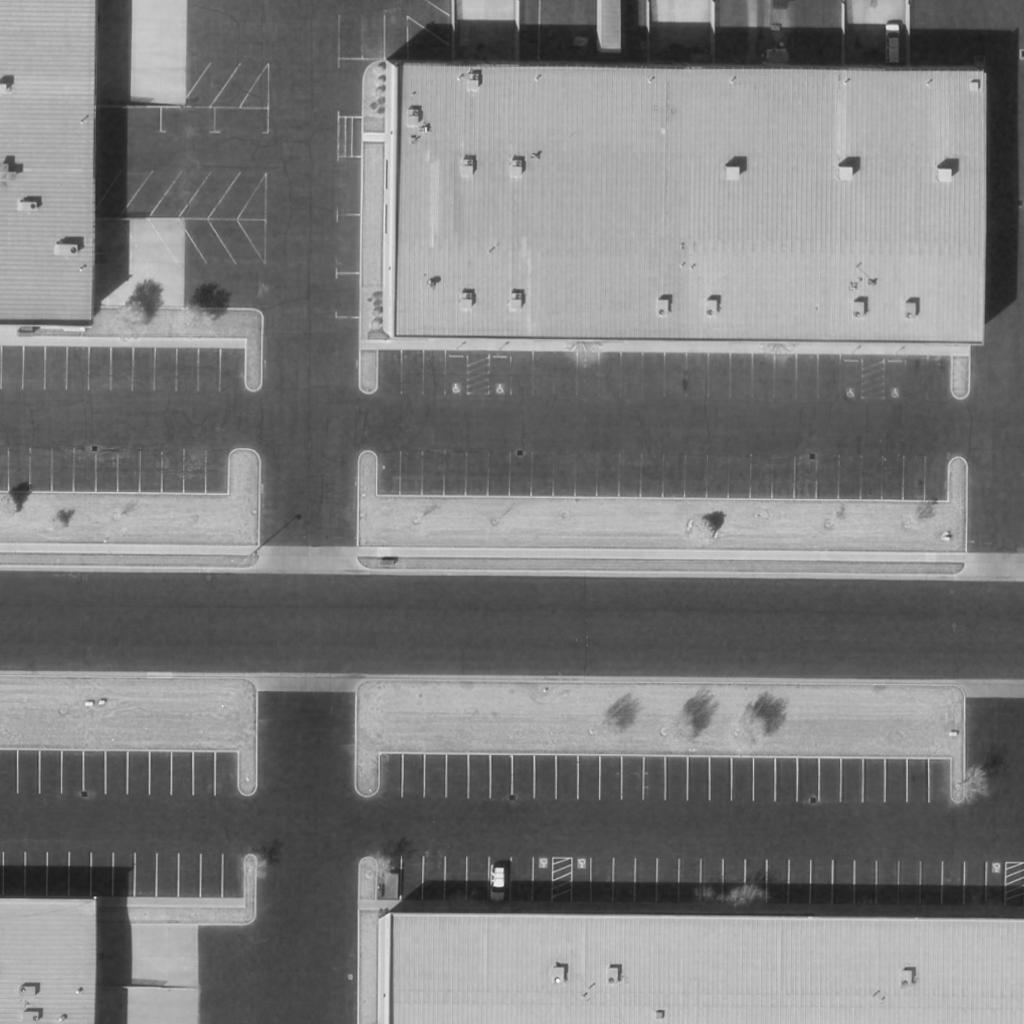vehicle: (883, 24, 903, 66), (489, 864, 507, 904)
